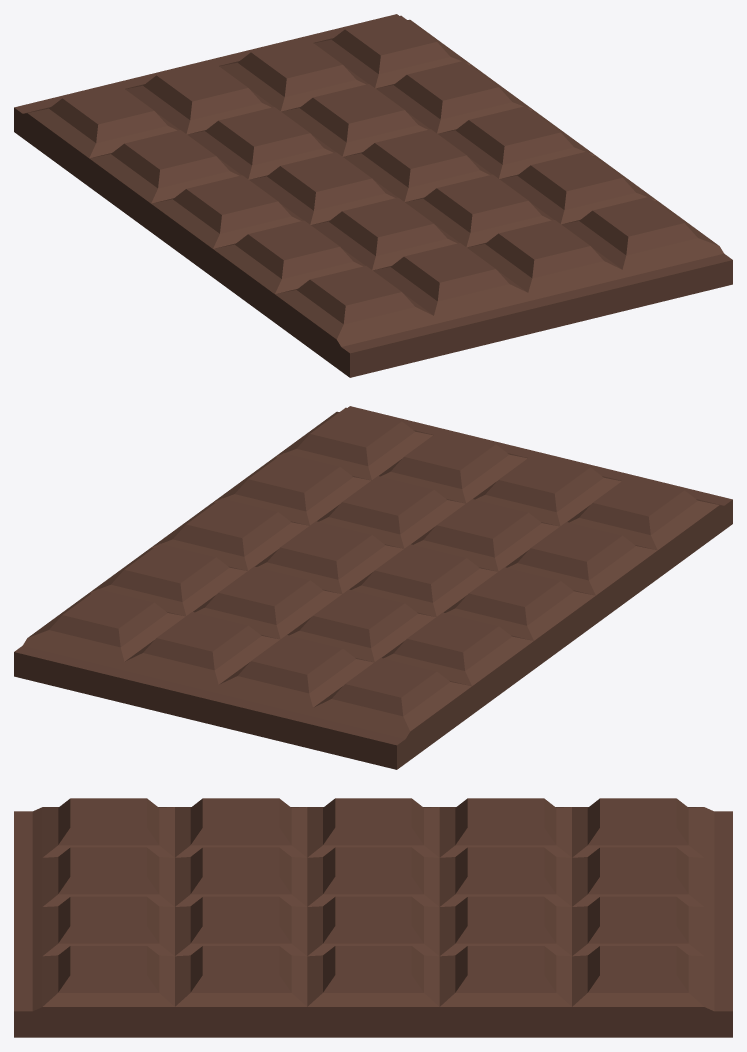
File: ChocolateBar.81959398.glb
The picture shows the model from 3 angles, top to bottom: view 1: azimuth 30°, elevation 25°; view 2: azimuth 150°, elevation 25°; view 3: azimuth 270°, elevation 25°; orthographic projection. The views are drawn at different scales.
Visible parts, largest first — view 1: ChocolateBar; view 2: ChocolateBar; view 3: ChocolateBar.
Boxes of the visible parts, <box> form: ChocolateBar: <box>14,14,732,377</box>; ChocolateBar: <box>14,406,732,769</box>; ChocolateBar: <box>14,798,732,1037</box>.
Size of the model in its own units: 0.5752 by 0.0683 by 0.8742.
